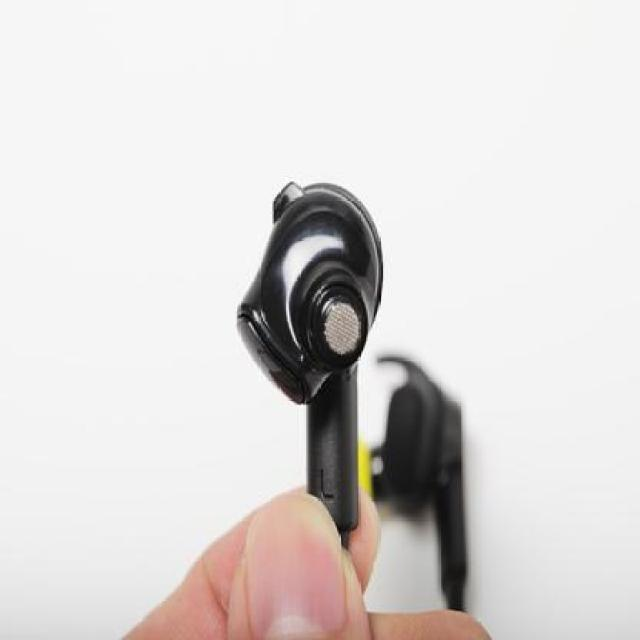earphone: (230, 137, 467, 555)
